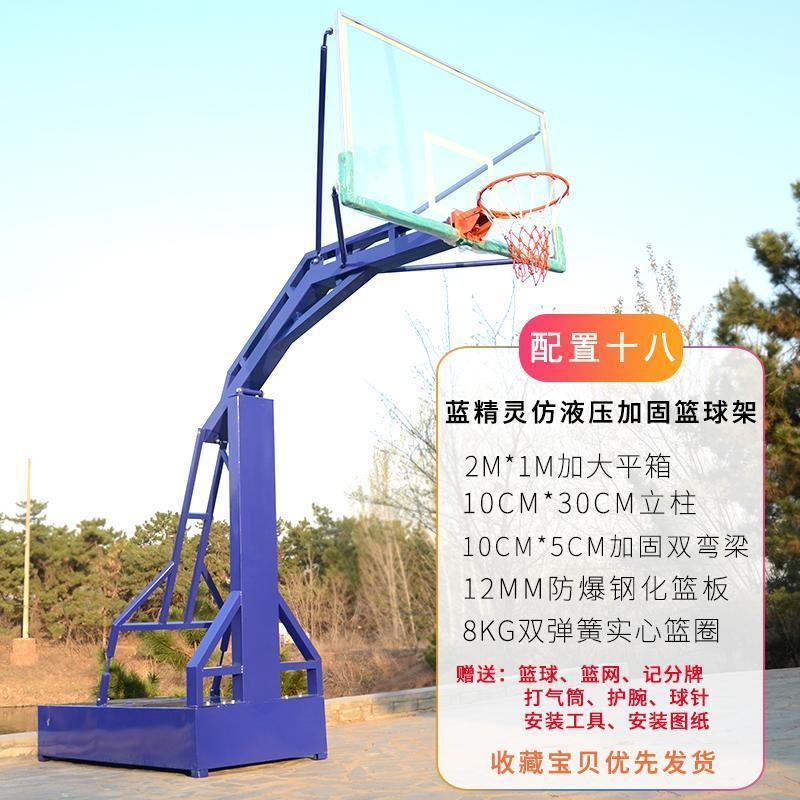rim: (475, 169, 571, 287)
